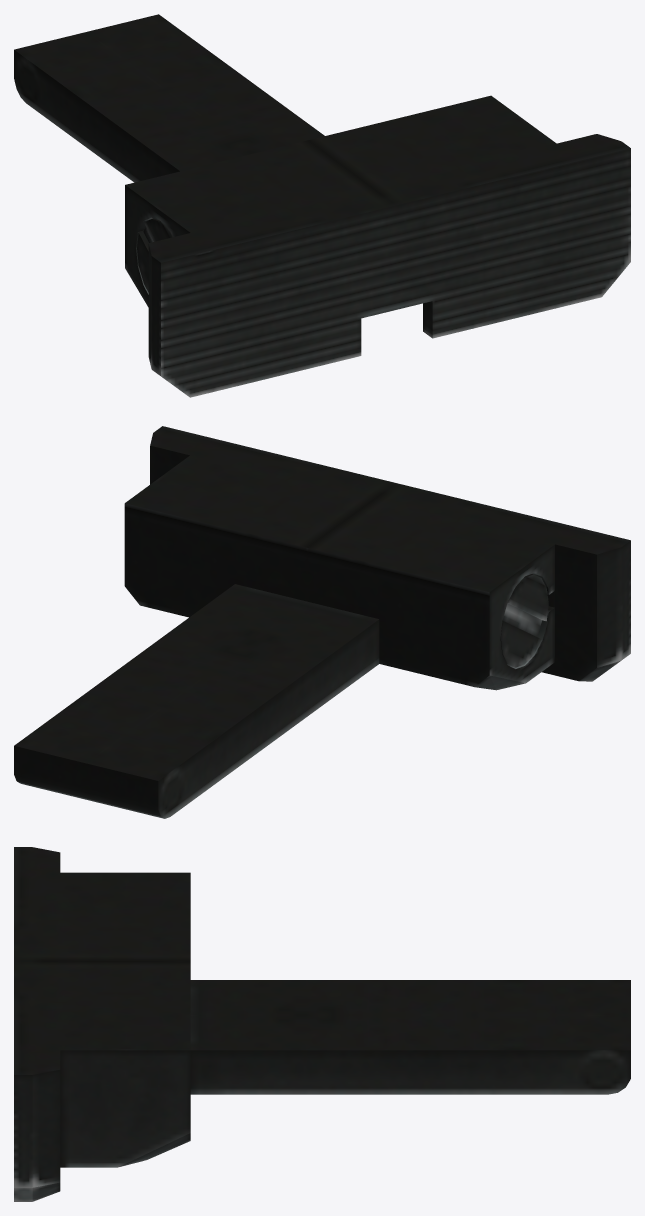
3 views of the same model, one above another, from view 1: azimuth 30°, elevation 25°; view 2: azimuth 150°, elevation 25°; view 3: azimuth 270°, elevation 25° (orthographic).
Visible parts, largest first — view 1: TW_619f4cee4c58466fe1228435_PZ_Import; view 2: TW_619f4cee4c58466fe1228435_PZ_Import; view 3: TW_619f4cee4c58466fe1228435_PZ_Import.
Part boxes in pixels (x1,y1,x2,y2): TW_619f4cee4c58466fe1228435_PZ_Import: (14,14,630,397); TW_619f4cee4c58466fe1228435_PZ_Import: (14,426,630,818); TW_619f4cee4c58466fe1228435_PZ_Import: (14,847,630,1201).
Bounding box in the file's own units: 0.0121 × 0.0138 × 0.00348.
Materials: 1 (1 with a texture image).
